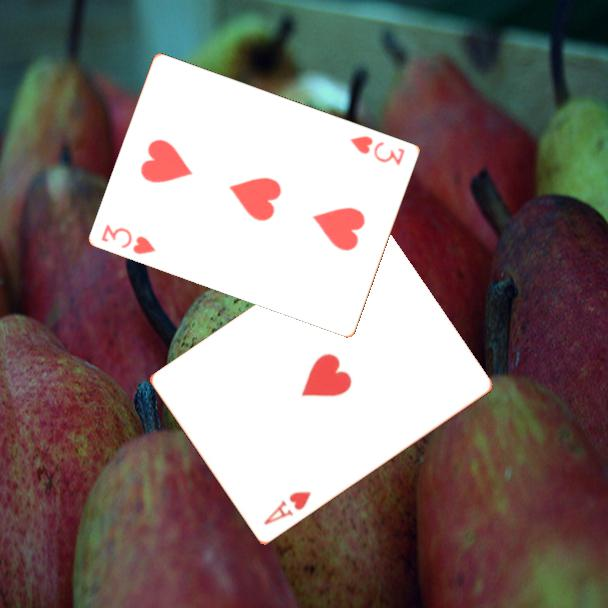h01: (260, 488, 314, 528)
h03: (98, 220, 159, 257), (346, 132, 408, 168)
